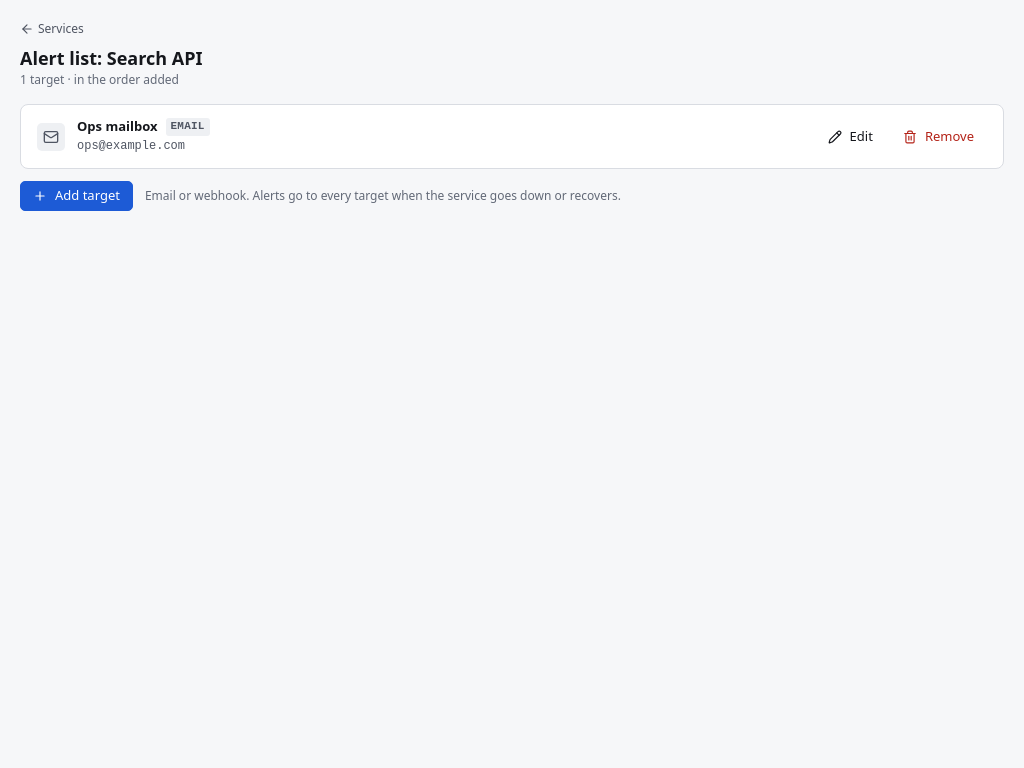
Scenario: opening the add dialog › shows the board’s form: Email chosen, Name focused, counter, label, no rows, footer, Close, the test row (FR-14, FR-80, FR-81)
Expected: the list named "Notification targets" is shown, [20,104,1004,169]
Step 1. Click the button "Add target" → (76, 196), box [20,181,133,211]
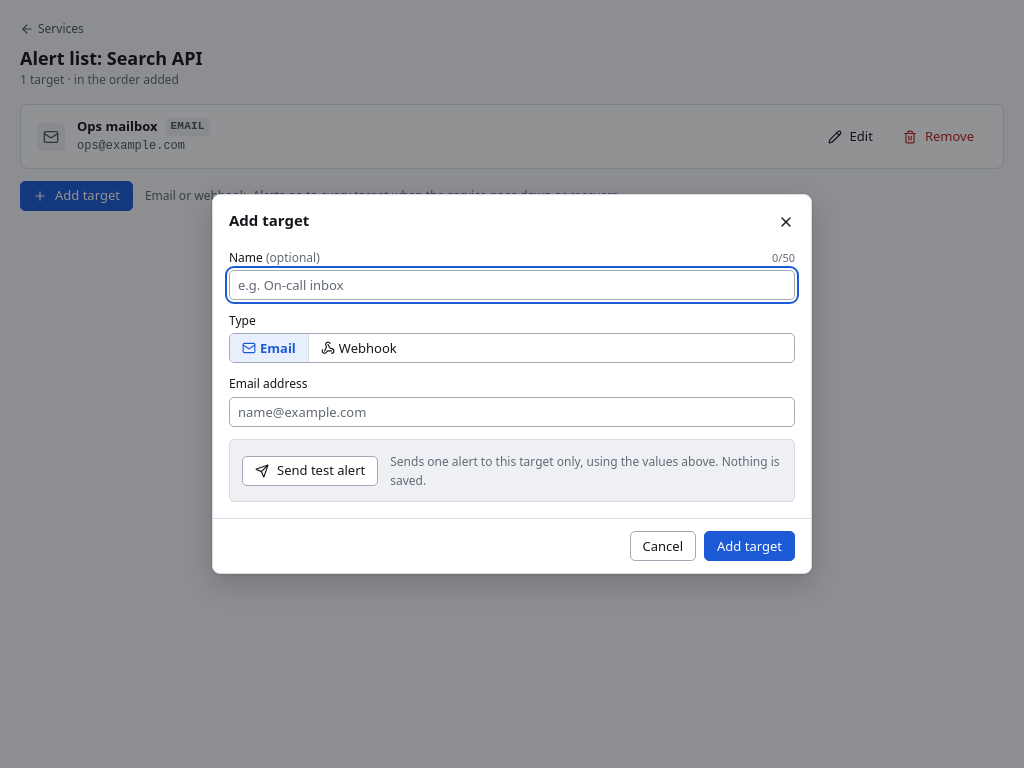
Now the radio button named "Email" is checked, box [230,334,308,362]
Now the text "0/50" is shown, box [772,250,795,266]
Now the button "Cancel" is shown, box [630,531,696,561]
